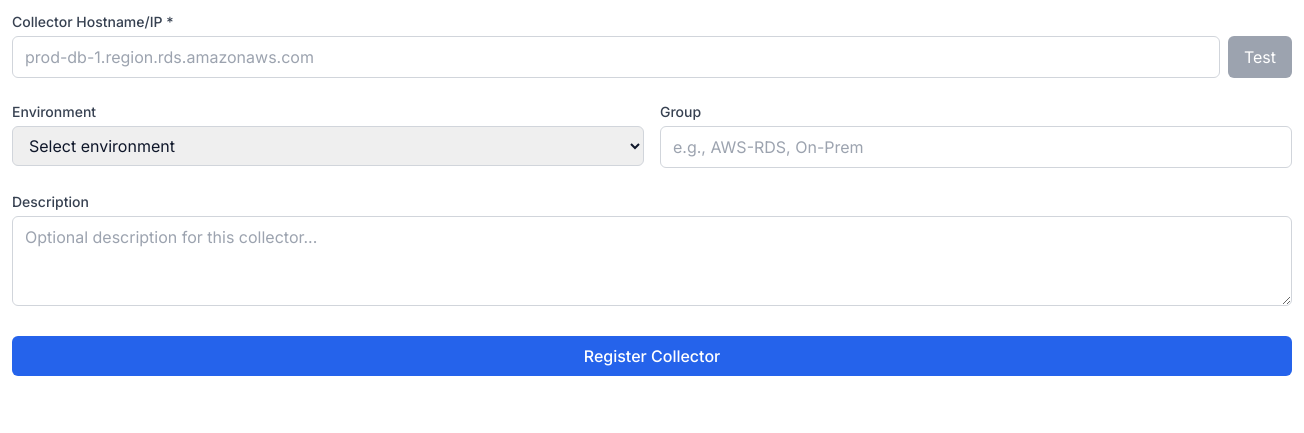
Test: CollectorForm › Success state › should display collector ID and token after successful registration
The width and height of the screenshot is (1304, 433).
Fill and submit
In the field with placeholder "prod-db-1.region.rds.amazonaws.com": (616, 57) top-left (12, 36), bottom-right (1220, 78), type "localhost"
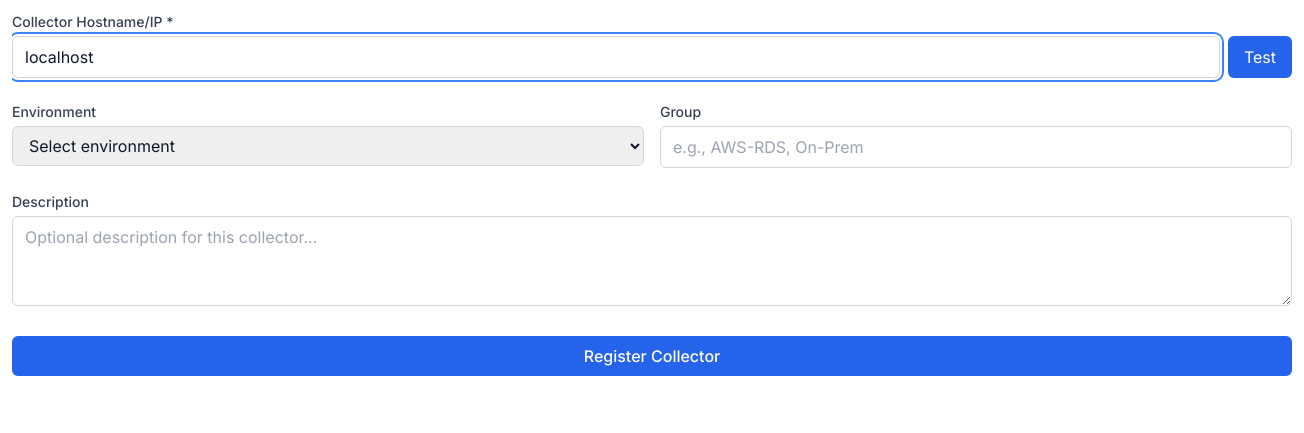
Click the button "Register Collector": (652, 356) top-left (12, 336), bottom-right (1292, 376)
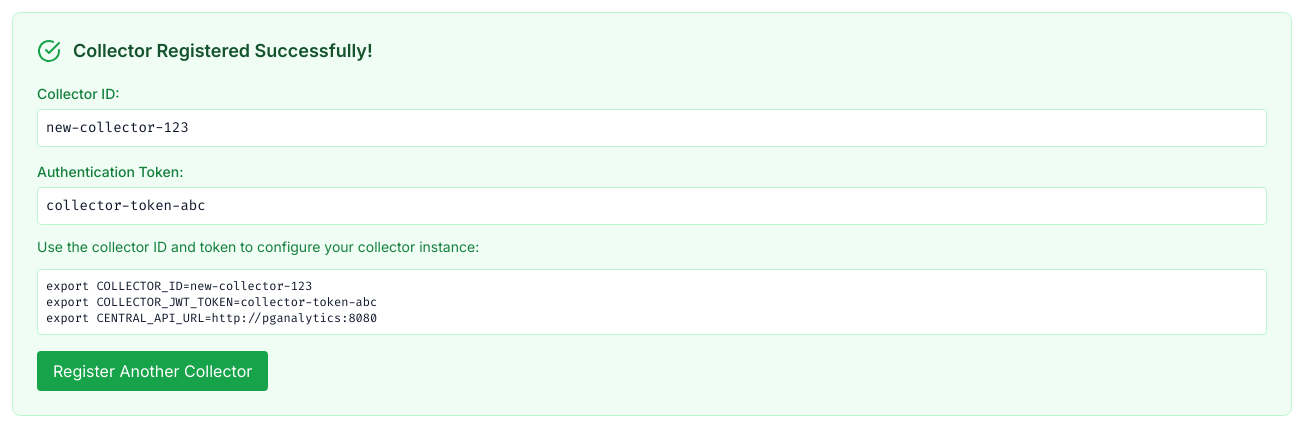
Result: the heading "Collector Registered Successfully!" is shown at top-left (73, 37), bottom-right (373, 65)
Result: the text "new-collector-123" is shown at top-left (37, 109), bottom-right (1267, 147)
Result: the text "collector-token-abc" is shown at top-left (37, 187), bottom-right (1267, 225)
